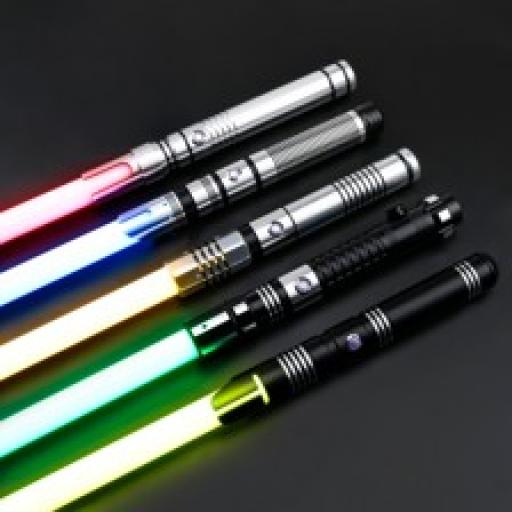lightsaber: (0, 249, 494, 512), (0, 188, 464, 459), (0, 146, 421, 382), (0, 100, 382, 305), (0, 58, 356, 248)
